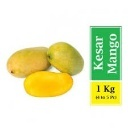mango: (23, 70, 73, 98)
